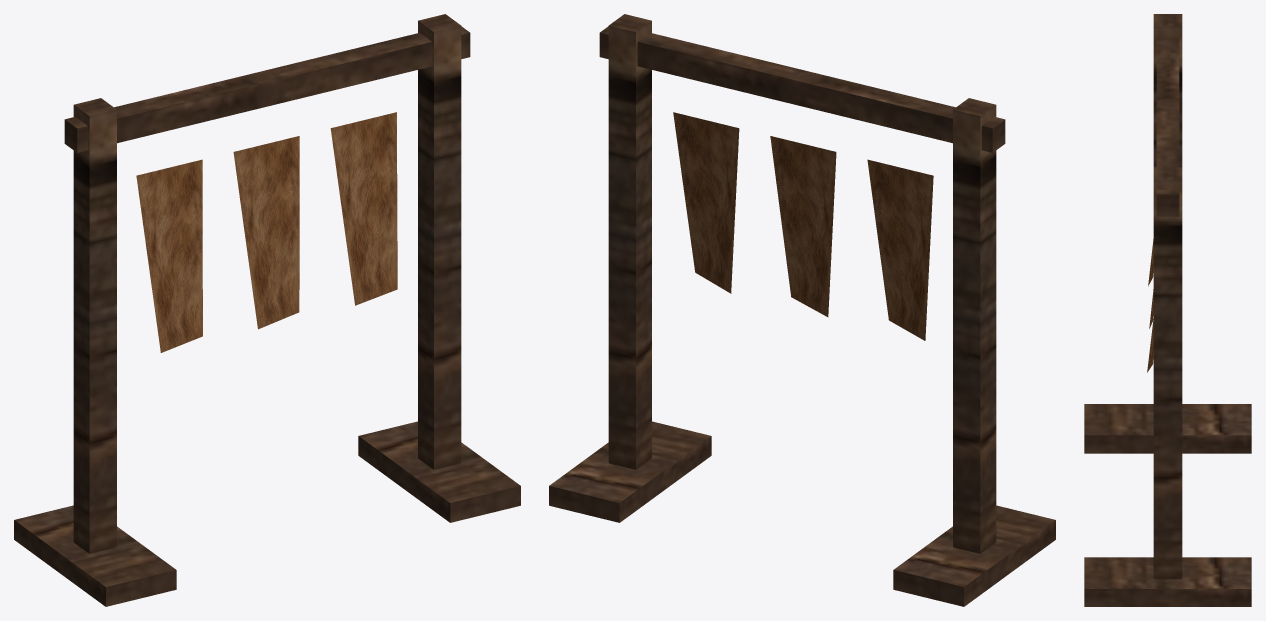
File: periodDrying.glb
3 renders of one model, left to right at view 1: azimuth 30°, elevation 25°; view 2: azimuth 150°, elevation 25°; view 3: azimuth 270°, elevation 25°, orthographic. The views are drawn at different scales.
Visible parts, largest first — view 1: part_1, part_0; view 2: part_1, part_0; view 3: part_1, part_0.
Part boxes in pixels (x1,y1,x2,y2): part_1: [14, 14, 520, 606]; part_0: [136, 112, 397, 352]; part_1: [549, 14, 1055, 606]; part_0: [673, 112, 933, 340]; part_1: [1084, 14, 1251, 606]; part_0: [1147, 239, 1153, 372].
Size of the model in its own units: 0.94 by 0.9905 by 0.36.
2 materials, 2 textured.
